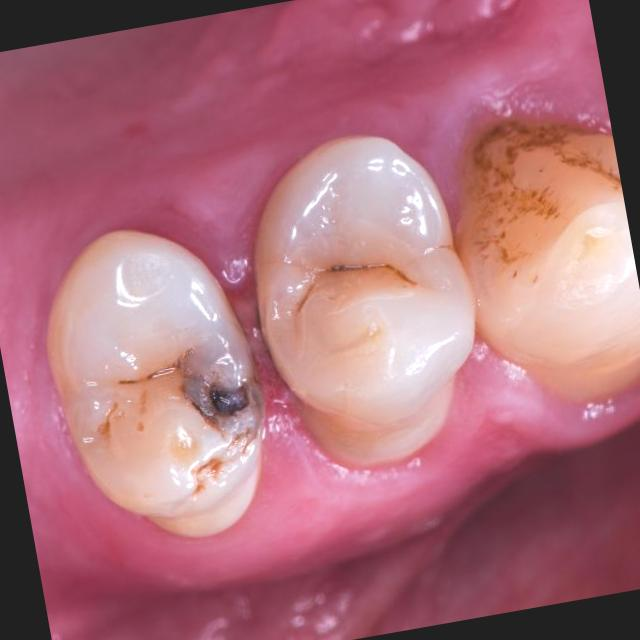caries: (112, 325, 275, 485)
